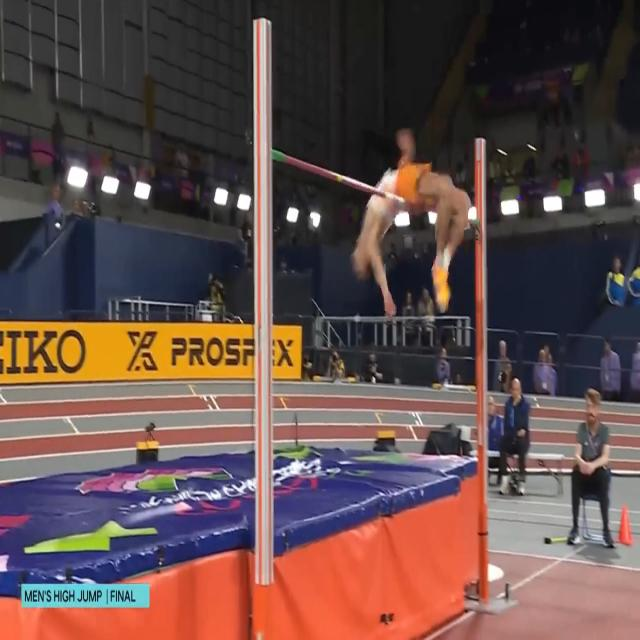jump: (351, 125, 471, 318)
